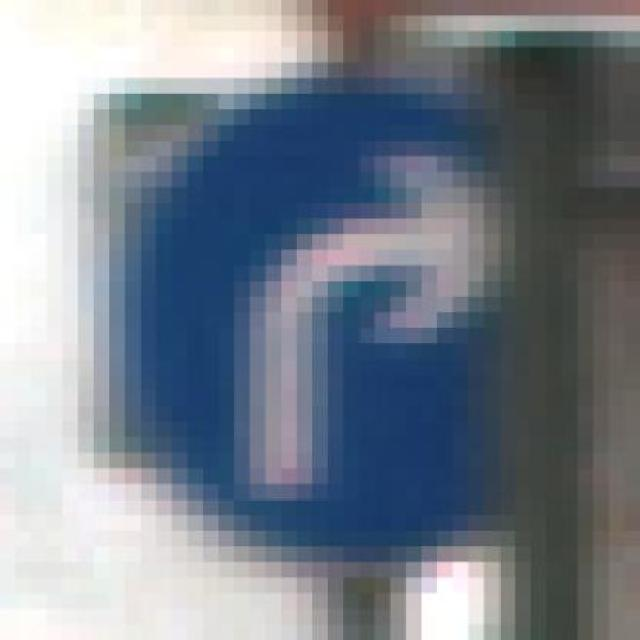Turn right ahead: (93, 78, 578, 578)
